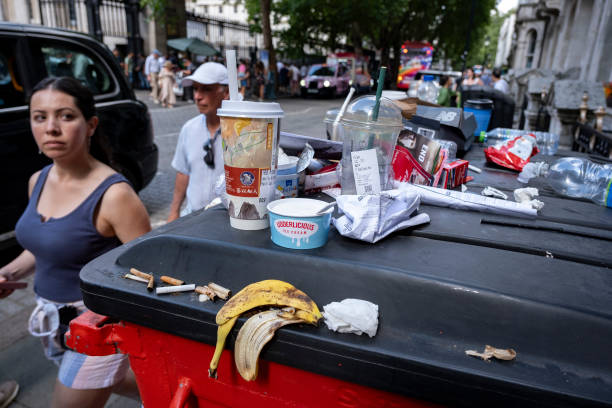General waste: (115, 248, 402, 373), (454, 323, 528, 379), (482, 125, 541, 172)
paper: (210, 36, 278, 235), (386, 101, 475, 202), (388, 168, 544, 222), (263, 112, 342, 201), (258, 191, 343, 258)
plastic: (328, 52, 408, 211), (322, 184, 435, 252), (527, 154, 612, 205), (475, 121, 564, 155)
